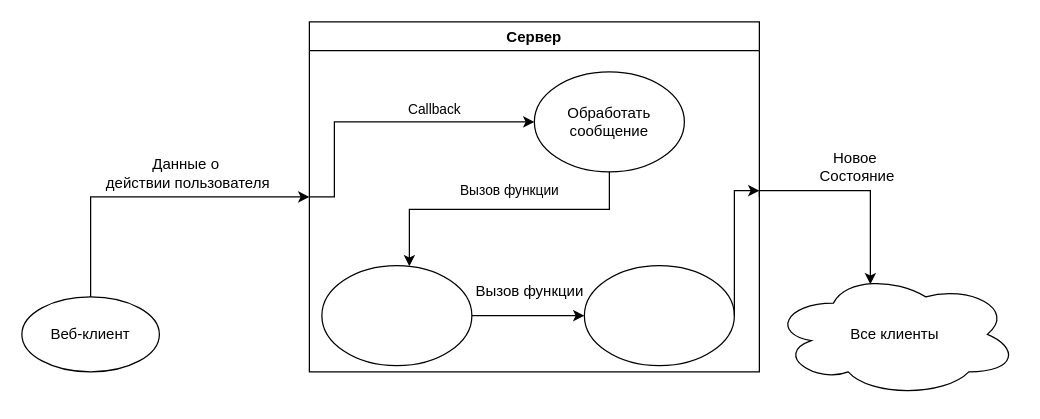
Image size: 1040x419. Some labels were removed from this diagram. Each missing label, with the centre of its shape:
"Обновить модель данных" goes at (396,315).
"Послать всем клиентам новое состояние" goes at (658,315).
